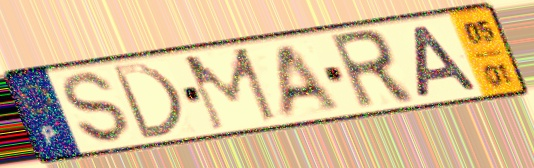A: (411, 22, 483, 101), (274, 41, 342, 122)
D: (107, 61, 187, 142)
M: (180, 44, 282, 134)
R: (325, 26, 419, 114)
S: (61, 70, 134, 145)
